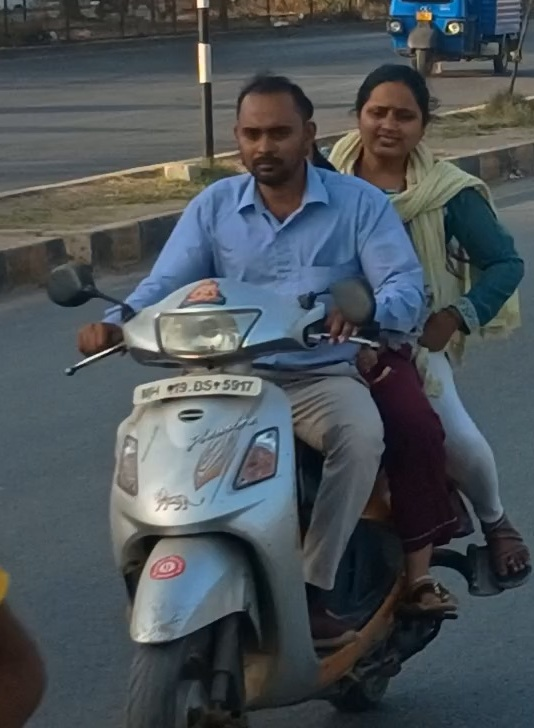BikeWithRider: (36, 62, 534, 728)
NoHelmet: (216, 70, 322, 189), (345, 61, 439, 166)
